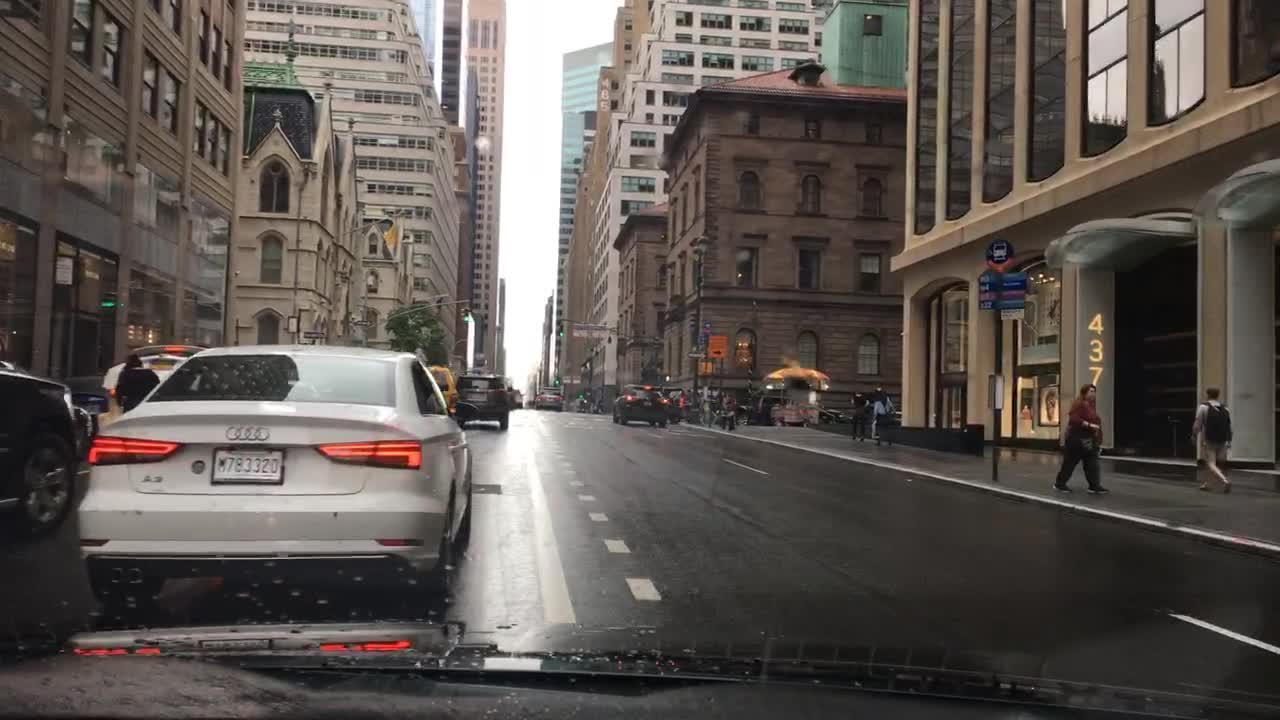Audi: (218, 420, 271, 448)
